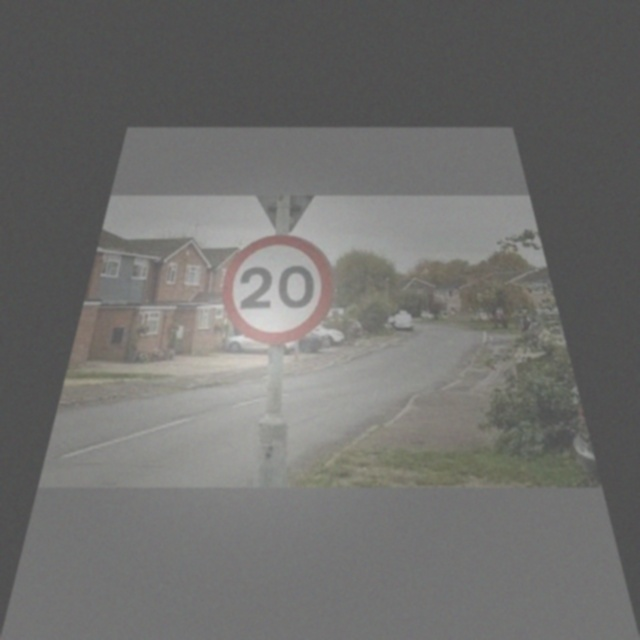Speed_Limit_20: (217, 234, 333, 342)
